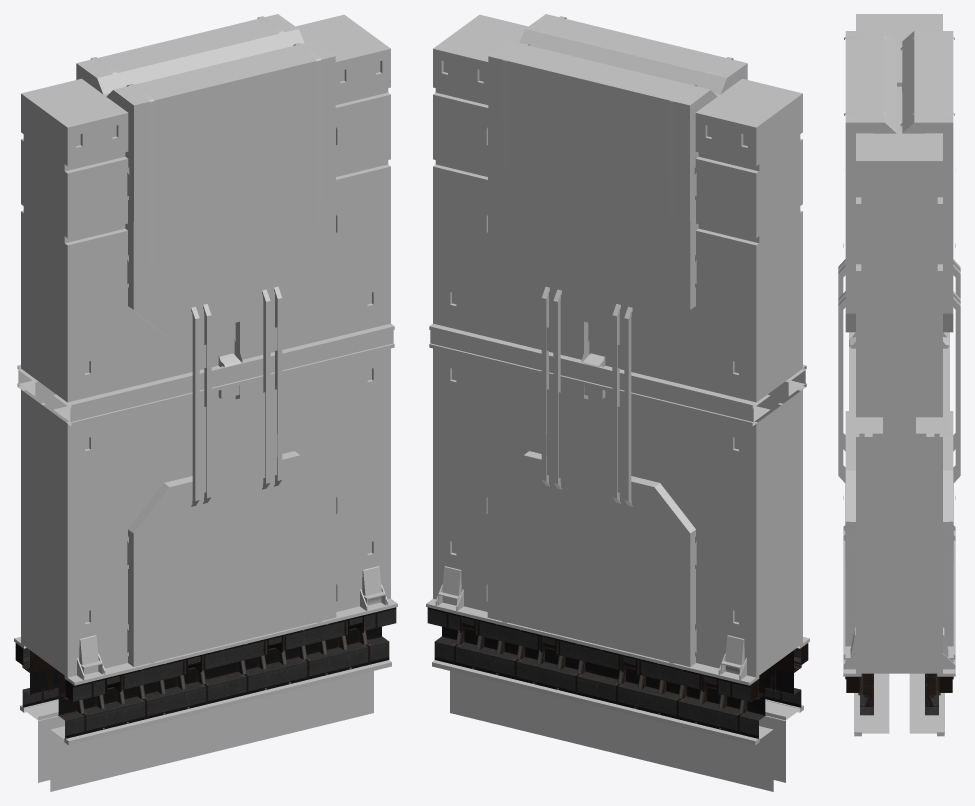
File: Wall_Large_07_phys.fbx
3 renders of one model, left to right at view 1: azimuth 30°, elevation 25°; view 2: azimuth 150°, elevation 25°; view 3: azimuth 270°, elevation 25°, orthographic. The views are drawn at different scales.
Visible parts, largest first — view 1: Wall_Large_07_phys; view 2: Wall_Large_07_phys; view 3: Wall_Large_07_phys.
Part boxes in pixels (x1=…): Wall_Large_07_phys: x1=14, y1=14, x2=397, y2=791; Wall_Large_07_phys: x1=426, y1=14, x2=809, y2=791; Wall_Large_07_phys: x1=838, y1=14, x2=960, y2=736.
Size of the model in its own units: 1604 by 3262 by 562.
